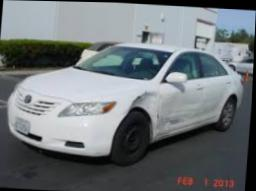Door: (159, 79, 208, 137)
Fender: (118, 82, 160, 121)
